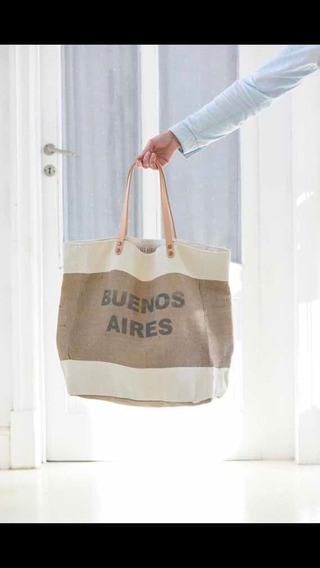cartera: (57, 154, 235, 407)
